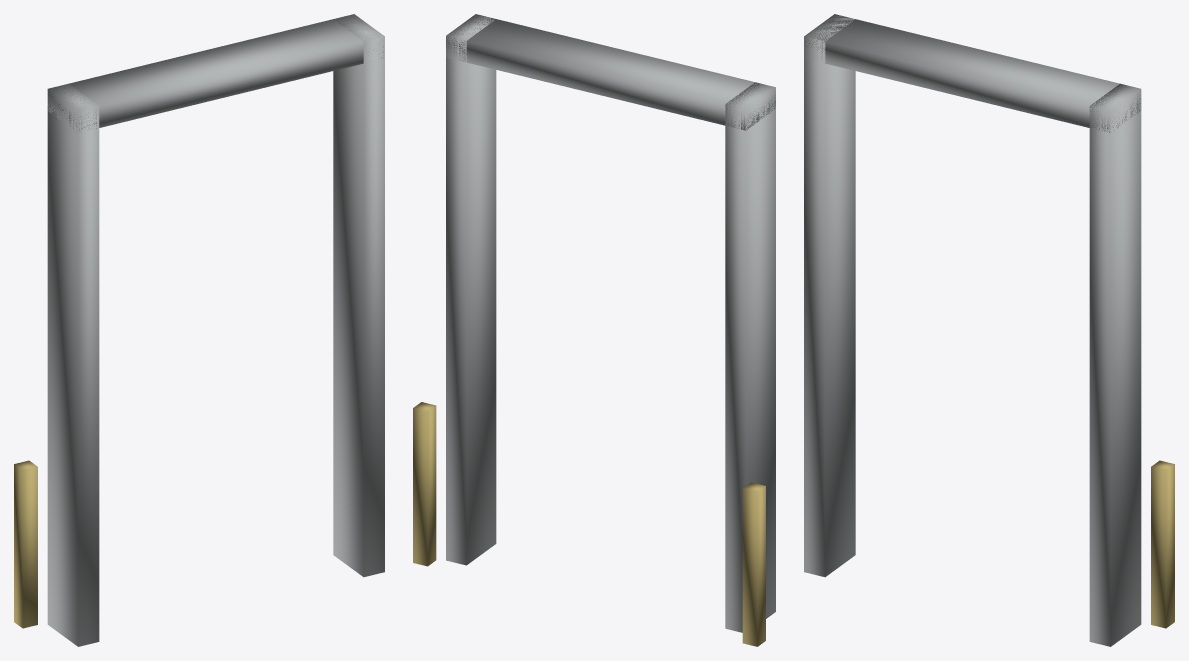
The model's file is atrium_edge_industrial_w140_h260_d28.glb.
3 views of the same model, side by side, from view 1: azimuth 30°, elevation 25°; view 2: azimuth 150°, elevation 25°; view 3: azimuth 330°, elevation 25° (orthographic). The views are drawn at different scales.
Visible parts, largest first — view 1: world; view 2: world; view 3: world.
Part boxes in pixels (x1=…): world: x1=14, y1=14, x2=384, y2=646; world: x1=413, y1=14, x2=775, y2=646; world: x1=804, y1=14, x2=1174, y2=646.
Size of the model in its own units: 1.86 by 2.71 by 0.38.
